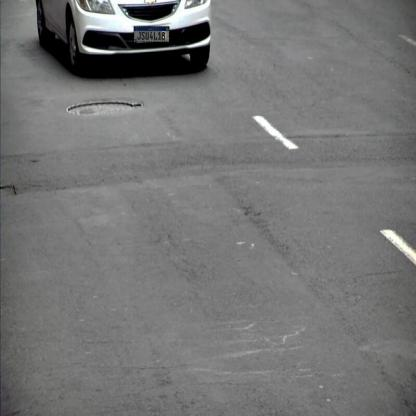PlacaM: (134, 26, 170, 42)
